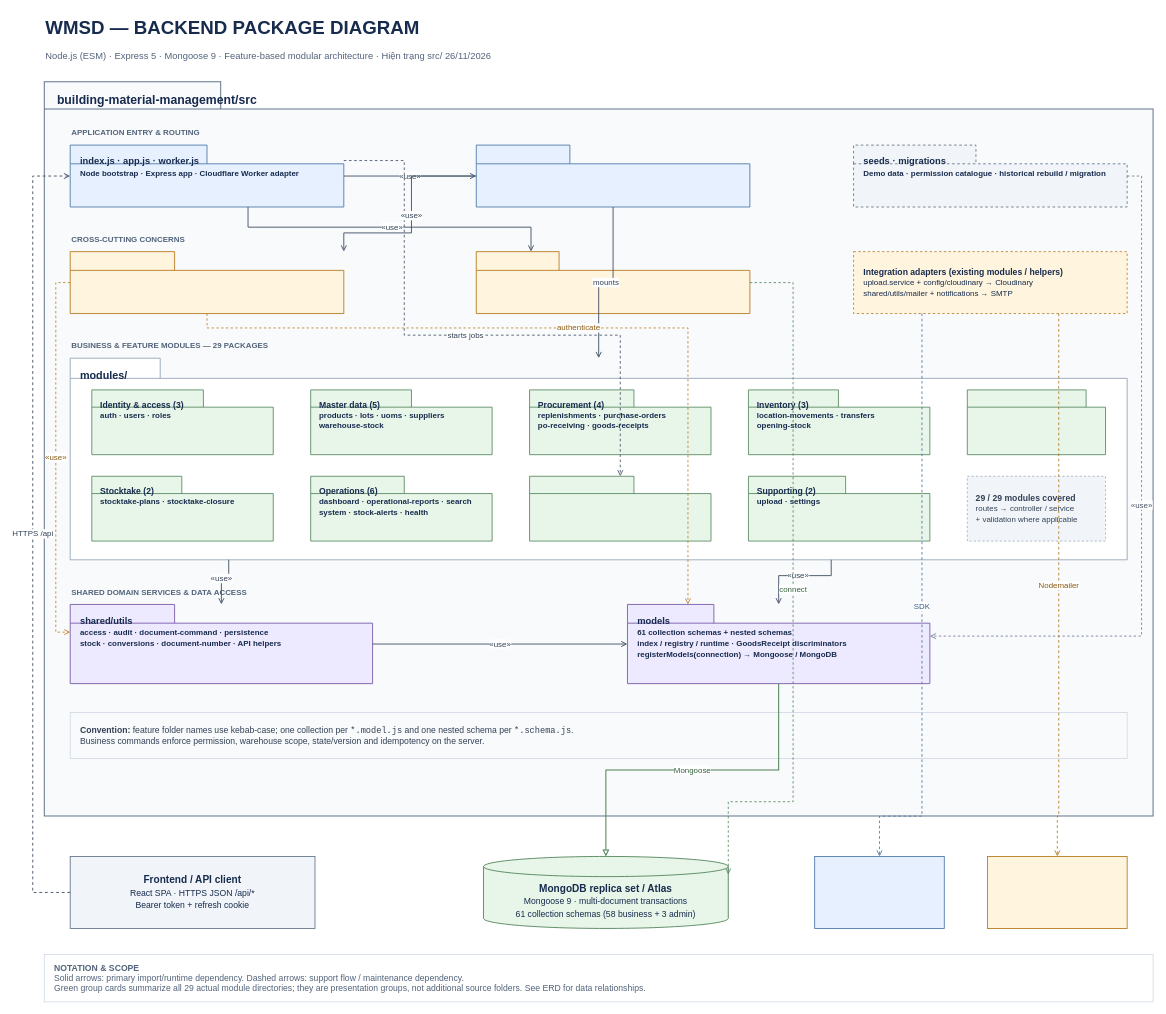
Some shapes in this 1166 by 1014 pixel diagram are drawn without their labels. The centre of each missing label's shape, as x and y in pixels:
"Cloudinary Evidence file storage" belongs at (879,892).
"config database · jwt · cookie · cloudinary · local-mongo" belongs at (612,282).
"middlewares auth · permission · validate · upload · errorHandler" belongs at (206,282).
"Notifications (1) routes · rules · sources · worker background · email" belongs at (620,508).
"routes.js Top-level /api router · mounts feature routers" belongs at (612,175).
"Sales & returns (3) sales-orders · goods-issues return-workflows" belongs at (1036,422).
"SMTP service Notification email" belongs at (1057,892).
